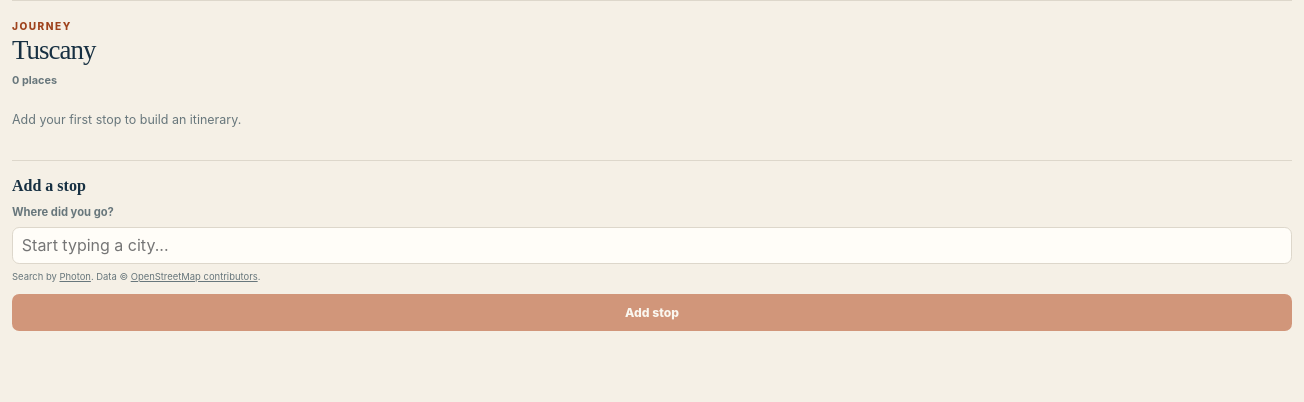
Test: Itinerary add stop › adds the selected city with its country and coordinates, then resets the form
The image size is (1304, 402).
Expected: the button "Add stop" is disabled, [12,294,1292,331]
In the dropdown: (652, 245) [12,226,1292,264], type "Luc"
Wait 300 ms
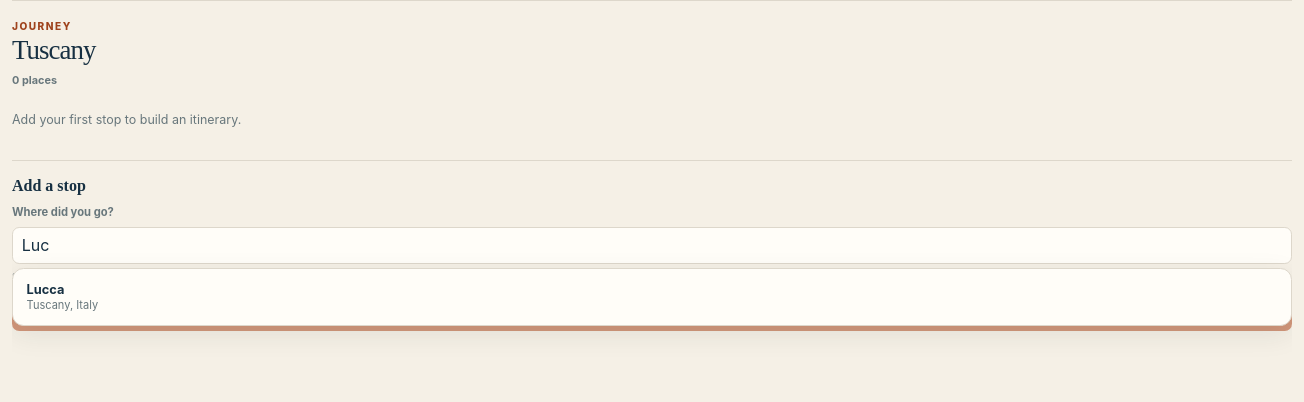
Click the option "Lucca Tuscany, Italy": (46, 289) [17,273,1287,321]
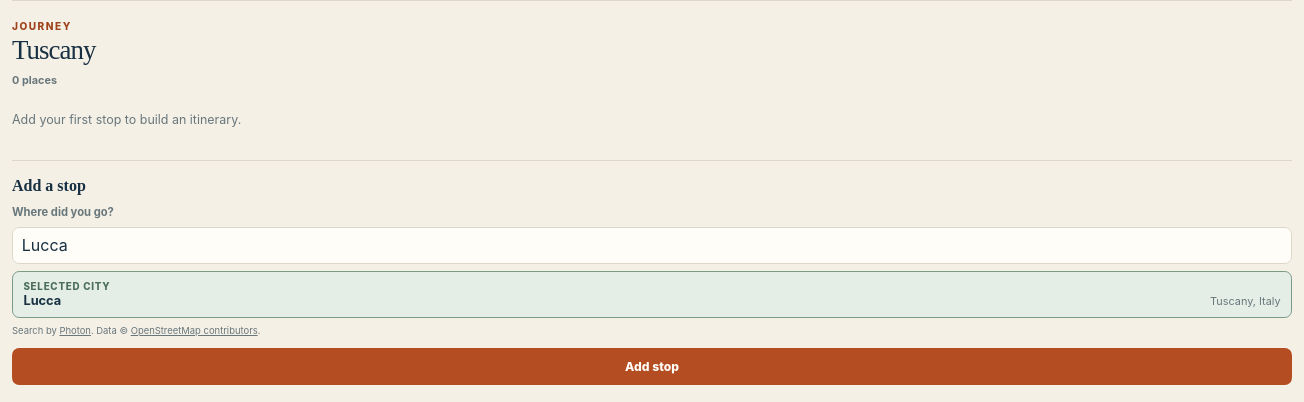
Expected: the button "Add stop" is enabled
Click the button "Add stop": (652, 367) [12,348,1292,385]
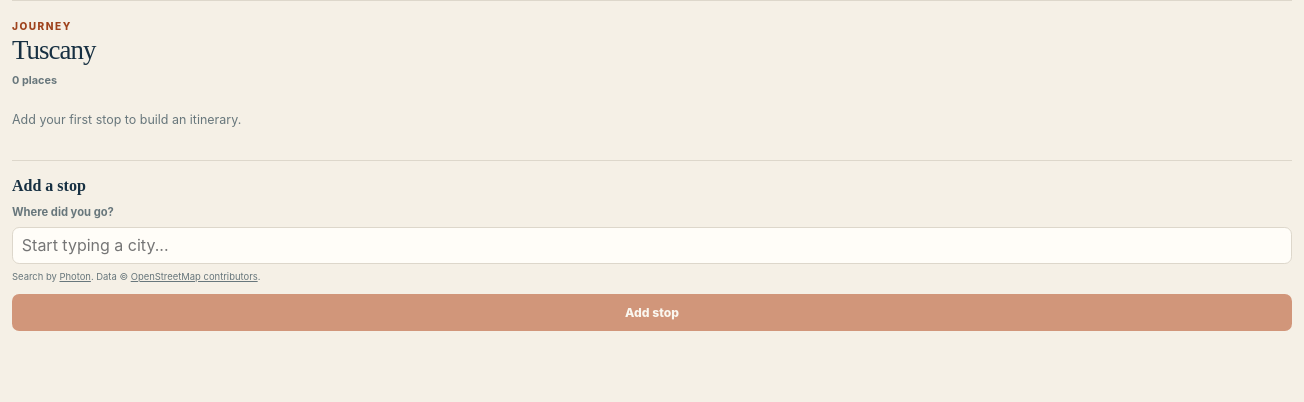
Expected: the dropdown is empty, [12,226,1292,264]
Expected: the button "Add stop" is disabled, [12,294,1292,331]
